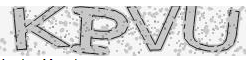K: (11, 5, 71, 54)
P: (70, 5, 130, 57)
U: (181, 3, 244, 55)
V: (126, 4, 184, 56)
